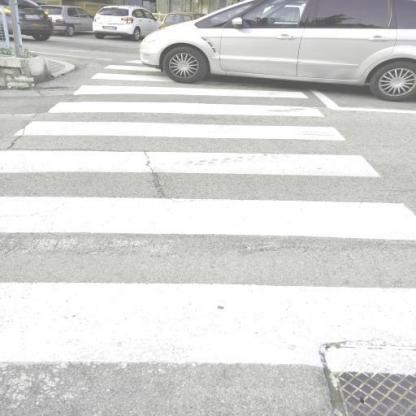crosswalk: (0, 189, 416, 377), (10, 98, 354, 146)
